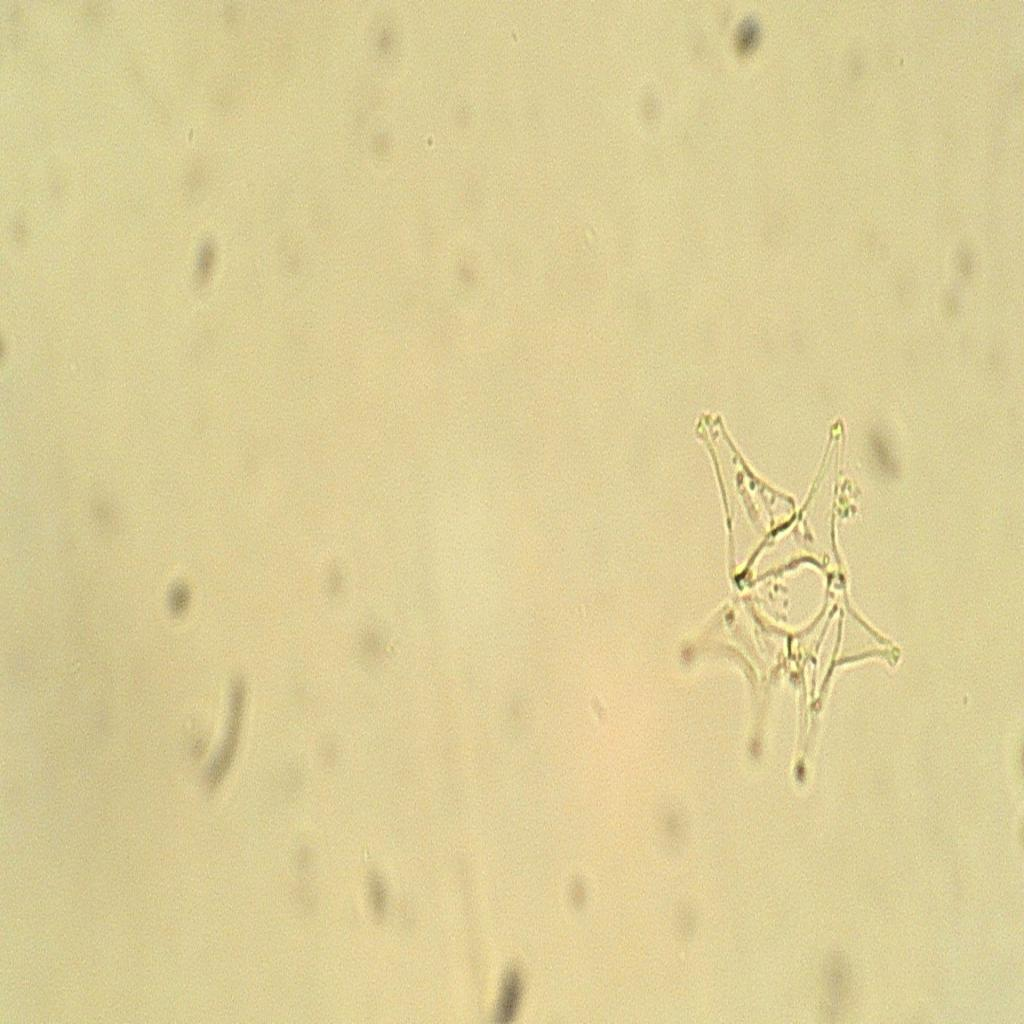Pediastrum_1F0: (660, 361, 905, 815)
